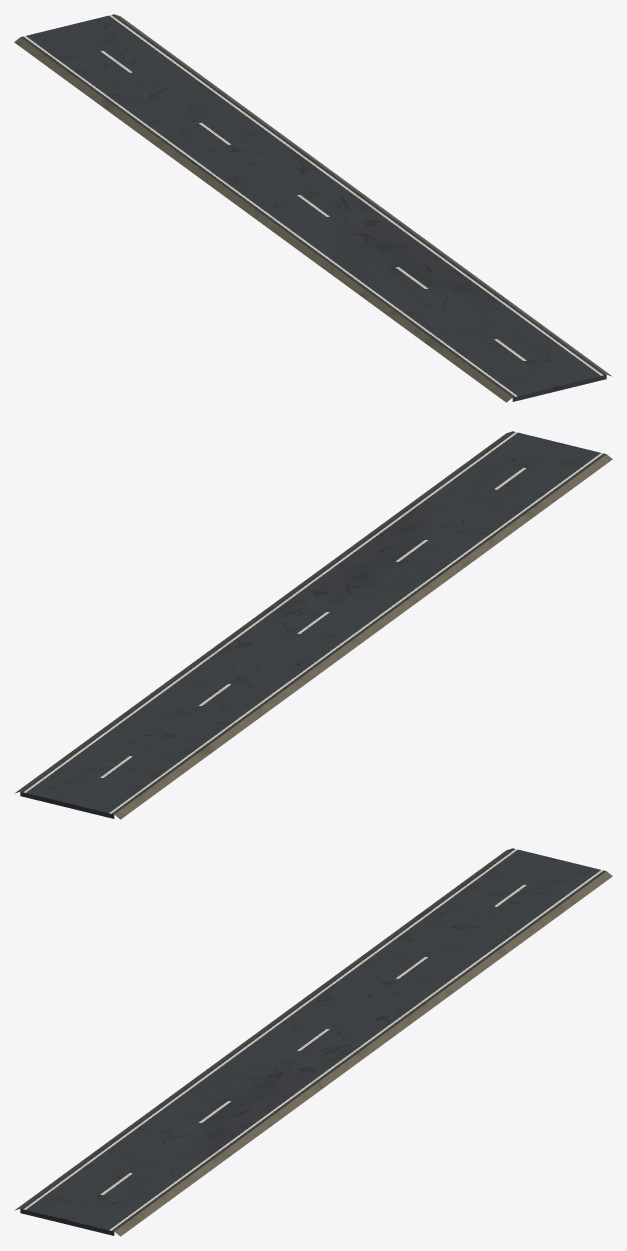
The model's file is road-segment.fbx.
3 renders of one model, top to bottom at view 1: azimuth 30°, elevation 25°; view 2: azimuth 150°, elevation 25°; view 3: azimuth 330°, elevation 25°, orthographic.
Parts seen in each view (by area): view 1: road-segment; view 2: road-segment; view 3: road-segment.
Boxes of the visible parts, bbox=[...] form: road-segment: bbox=[14, 14, 612, 402]; road-segment: bbox=[14, 431, 612, 819]; road-segment: bbox=[14, 848, 612, 1236].
Bounding box in the file's own units: 25 × 1 × 200.
1 material, 1 textured.
